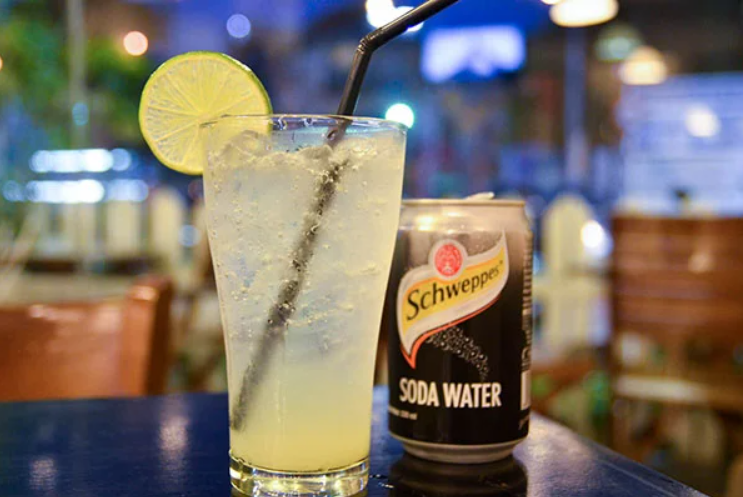schweppes: (408, 260, 500, 321)
